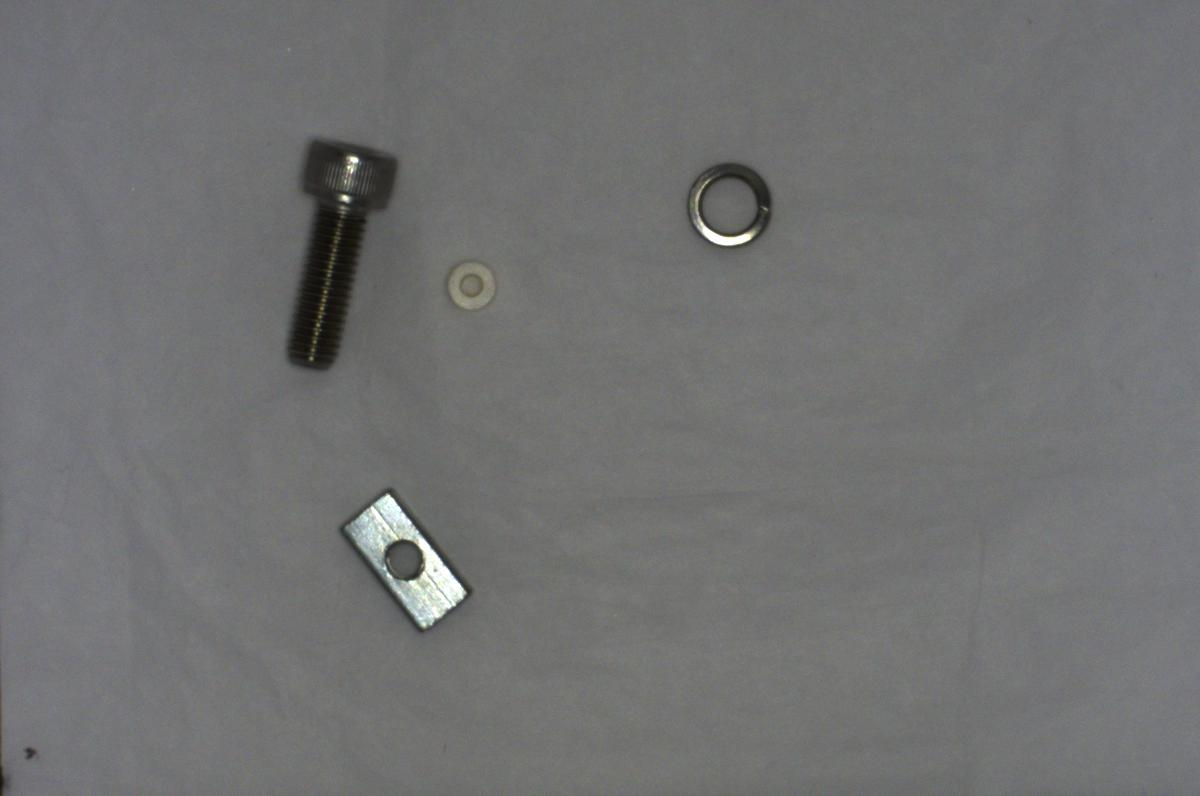Hexagon screw: (285, 129, 402, 363)
Plastic cushion pillar: (435, 253, 506, 315)
Rectangular nut: (340, 490, 470, 635)
Spring washer: (679, 153, 784, 259)
